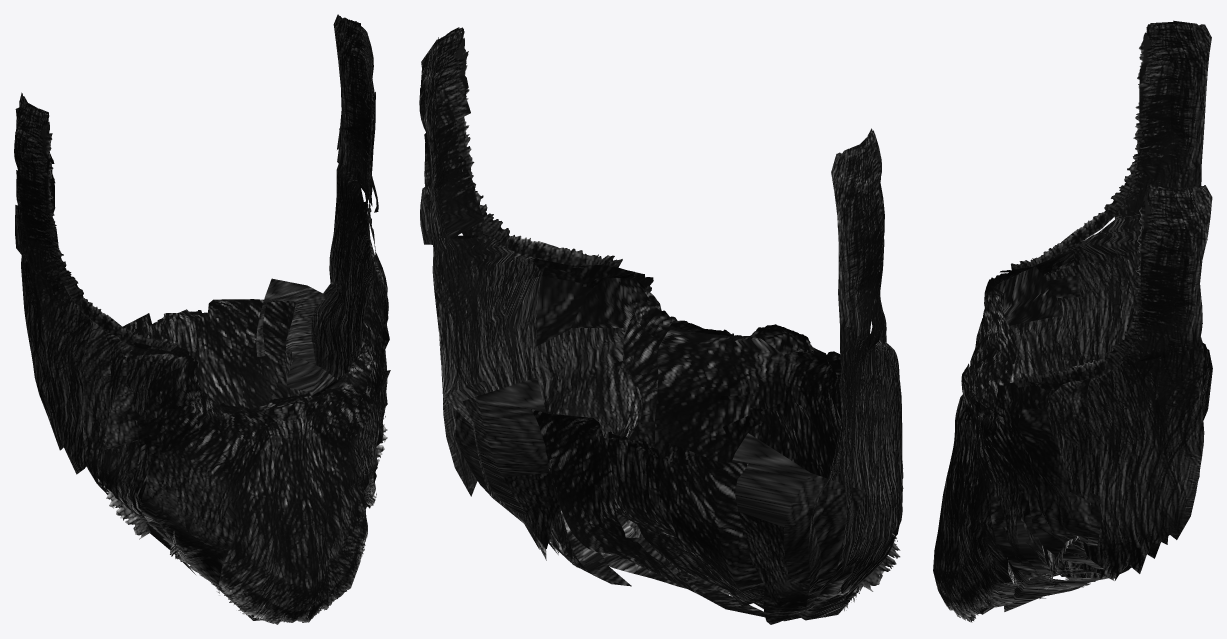
Rendered from Beard.fbx.
3 renders of one model, left to right at view 1: azimuth 30°, elevation 25°; view 2: azimuth 150°, elevation 25°; view 3: azimuth 270°, elevation 25°, orthographic. The views are drawn at different scales.
Visible parts, largest first — view 1: Beard; view 2: Beard; view 3: Beard.
Boxes of the visible parts, x1=… form: Beard: x1=14, y1=14, x2=390, y2=624; Beard: x1=419, y1=27, x2=903, y2=624; Beard: x1=933, y1=20, x2=1212, y2=622.
Size of the model in its own units: 16.06 by 21.81 by 10.74.
1 material, 1 textured.
